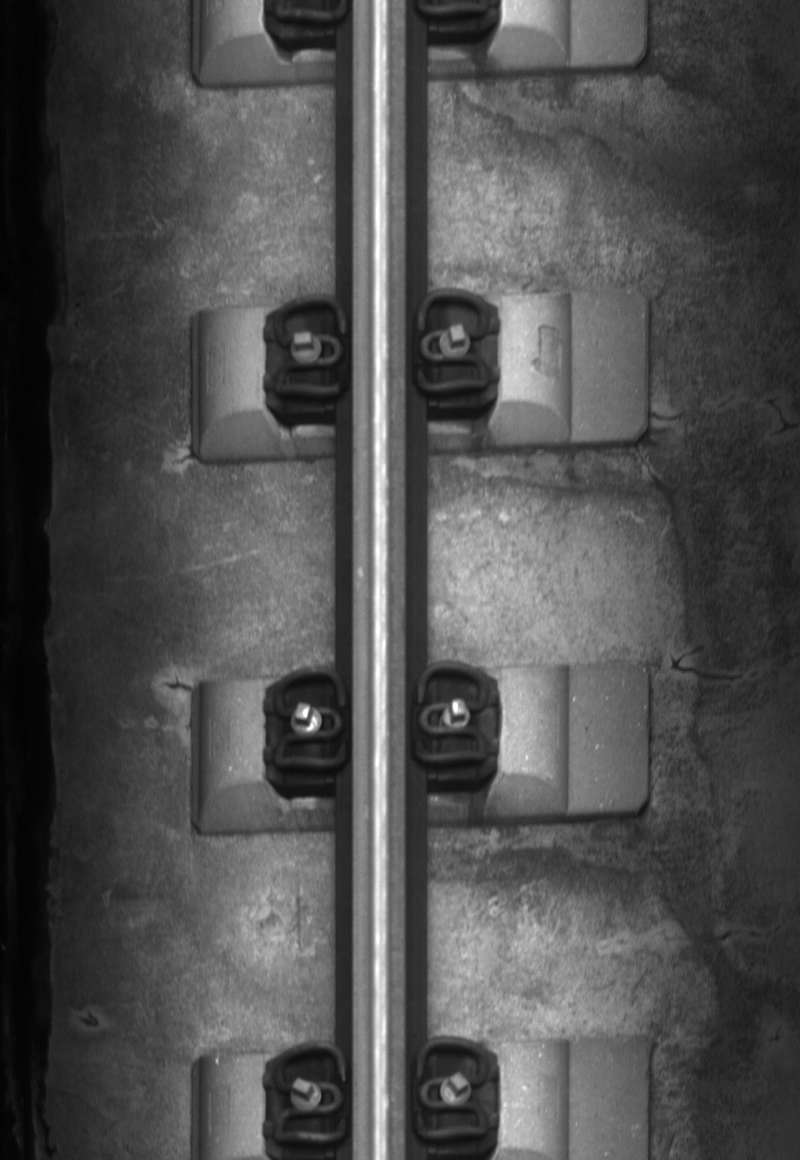l_faster: (267, 1035, 351, 1150), (267, 289, 352, 402), (269, 663, 351, 770)
r_faster: (411, 1034, 492, 1146), (412, 658, 492, 769), (411, 287, 491, 397)
